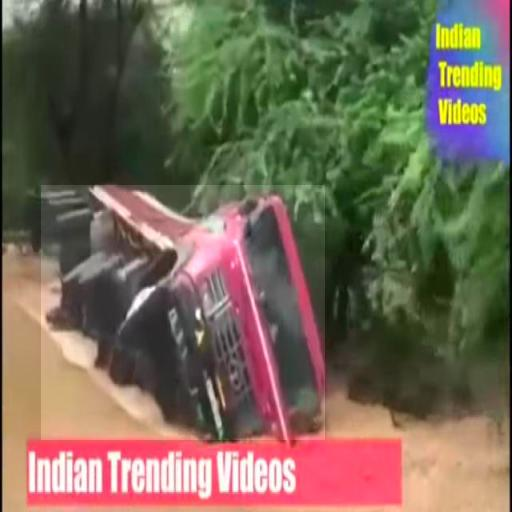小汽车: (42, 185, 326, 440)
